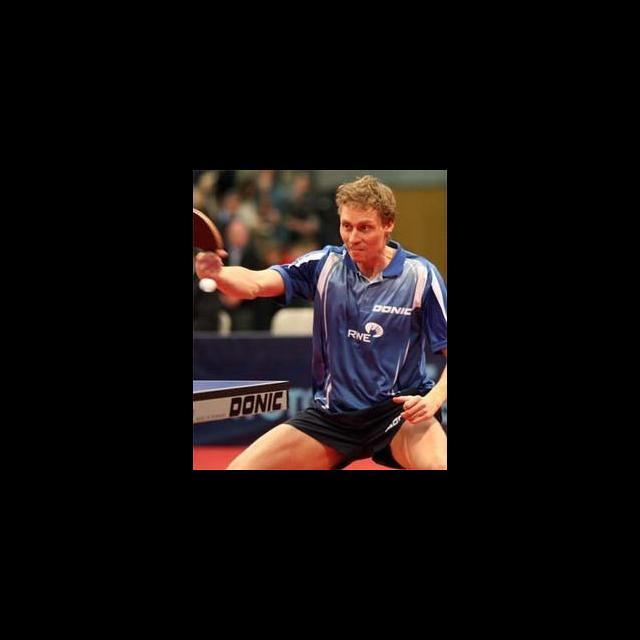ping-pong-ball: (198, 278, 218, 292)
